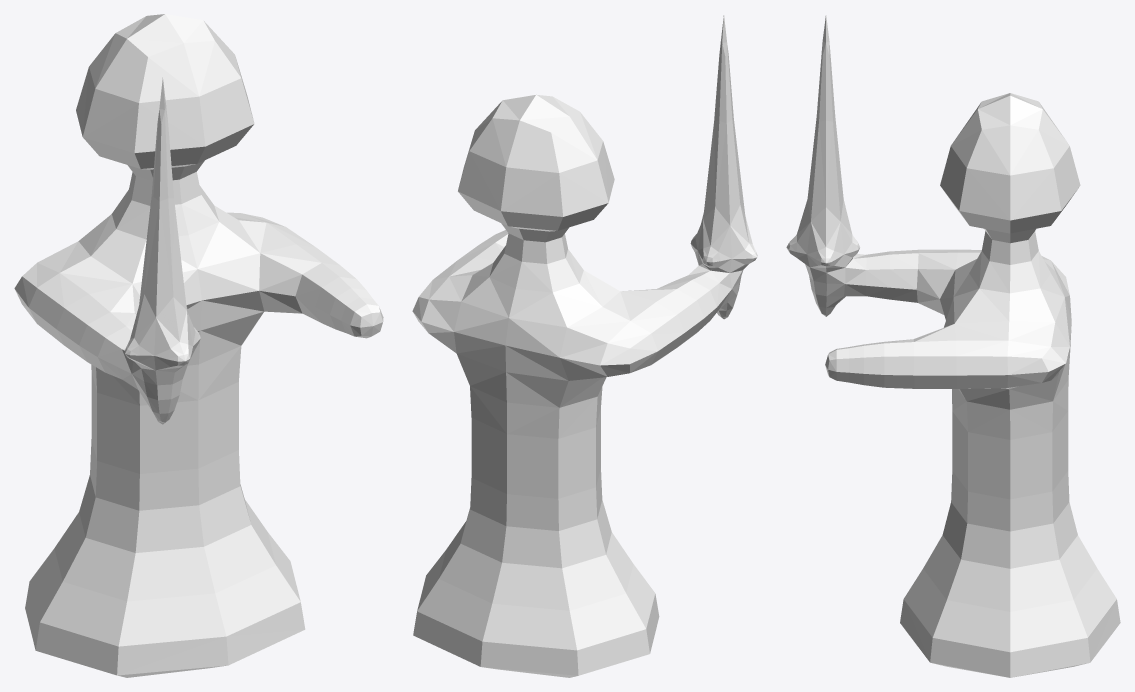
The model's file is wporn.obj.
3 views of the same model, side by side, from view 1: azimuth 30°, elevation 25°; view 2: azimuth 150°, elevation 25°; view 3: azimuth 270°, elevation 25° (orthographic). The views are drawn at different scales.
Parts seen in each view (by area): view 1: Cube; view 2: Cube; view 3: Cube.
Part boxes in pixels (x1=…): Cube: x1=14, y1=14, x2=383, y2=677; Cube: x1=412, y1=15, x2=757, y2=677; Cube: x1=786, y1=15, x2=1120, y2=677.
Size of the model in its own units: 4.35 by 10.08 by 5.24.
Materials: 1 (1 with a texture image).
